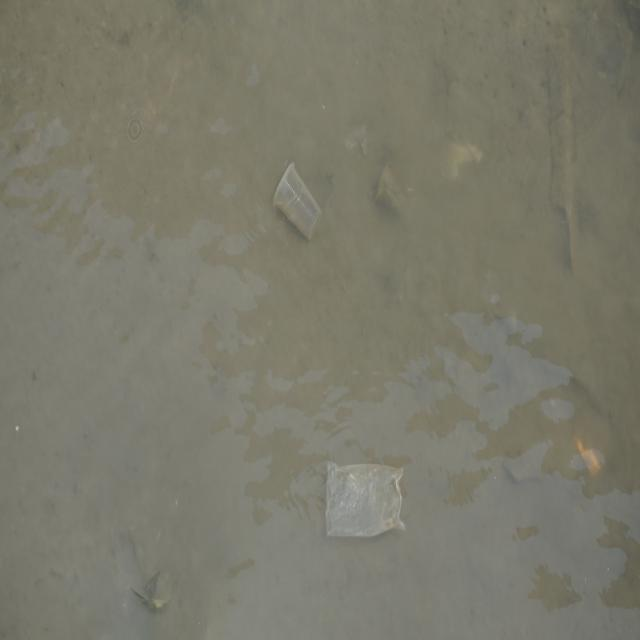Bungkus Minuman: (270, 157, 324, 244)
Kantong Plastik: (323, 454, 409, 547)
